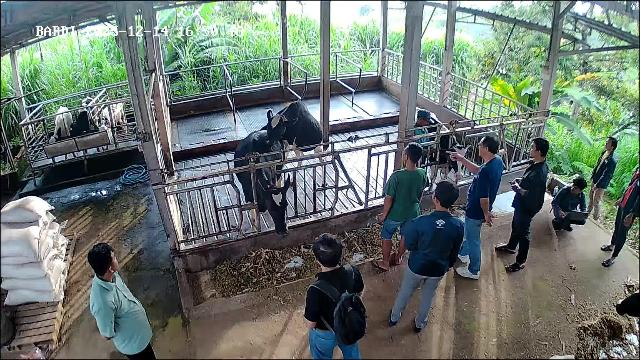mounting: (260, 101, 326, 199)
